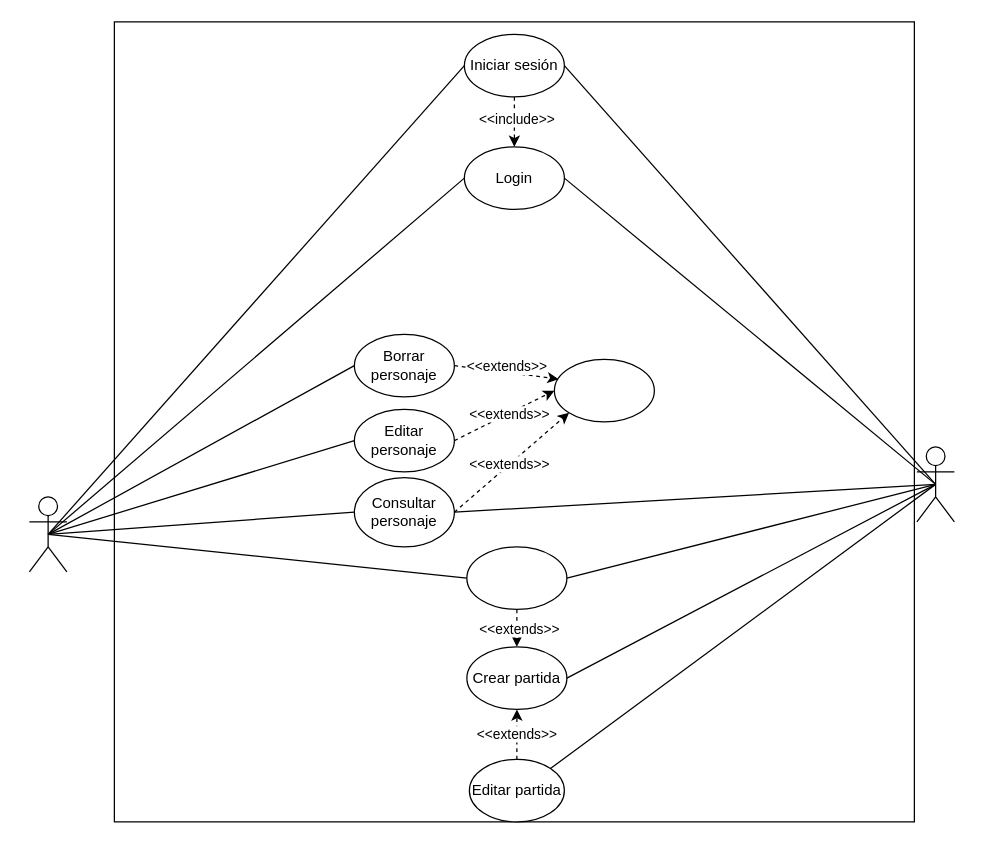
Image size: 1003x844. Some labels were removed from this diagram. Each missing label, with the centre of its shape:
"Consultar partida" goes at point 516,577.
"Crear Personaje" goes at point 603,390.
"Game Master" goes at point 935,484.
"Jugador" goes at point 47,534.
